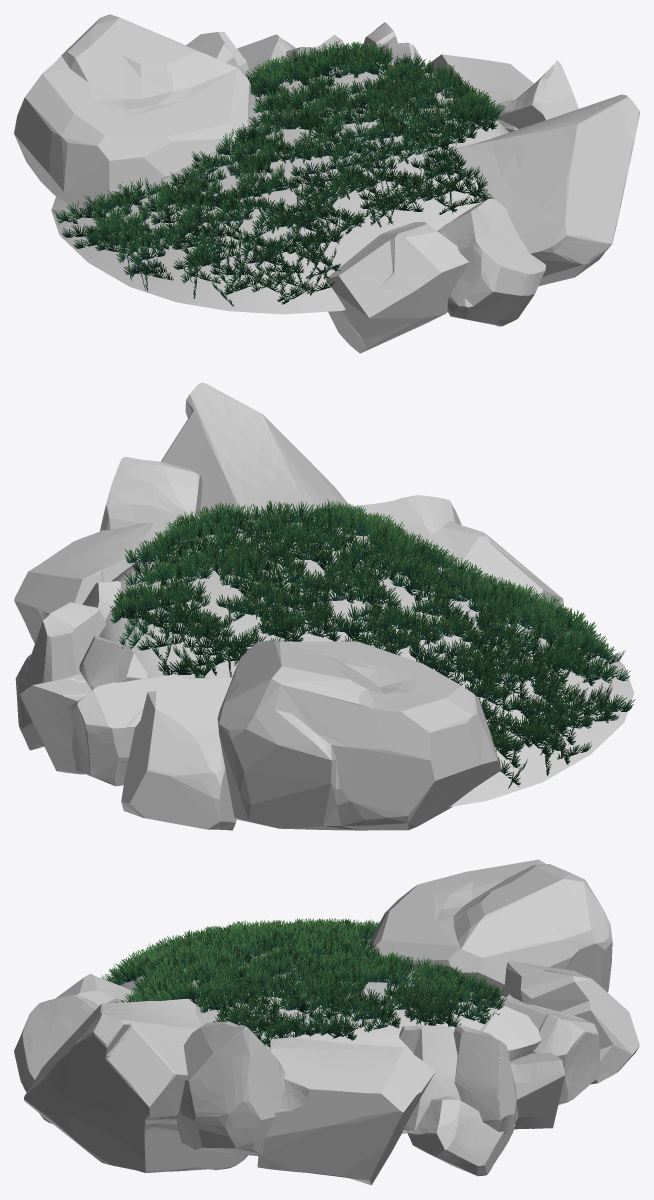
The model's file is sm_1x_hillCliff_1.fbx.
3 views of the same model, one above another, from view 1: azimuth 30°, elevation 25°; view 2: azimuth 150°, elevation 25°; view 3: azimuth 270°, elevation 25° (orthographic). The views are drawn at different scales.
Visible parts, largest first — view 1: sm_1x_hillCliff_grass:ZBrushPolyMesh3D1; view 2: sm_1x_hillCliff_grass:ZBrushPolyMesh3D1; view 3: sm_1x_hillCliff_grass:ZBrushPolyMesh3D1.
Boxes of the visible parts, left/top/right/bottom form: sm_1x_hillCliff_grass:ZBrushPolyMesh3D1: left=14, top=14, right=639, bottom=353; sm_1x_hillCliff_grass:ZBrushPolyMesh3D1: left=14, top=382, right=635, bottom=830; sm_1x_hillCliff_grass:ZBrushPolyMesh3D1: left=14, top=859, right=639, bottom=1185.
Size of the model in its own units: 4.99 by 2.12 by 5.62.
